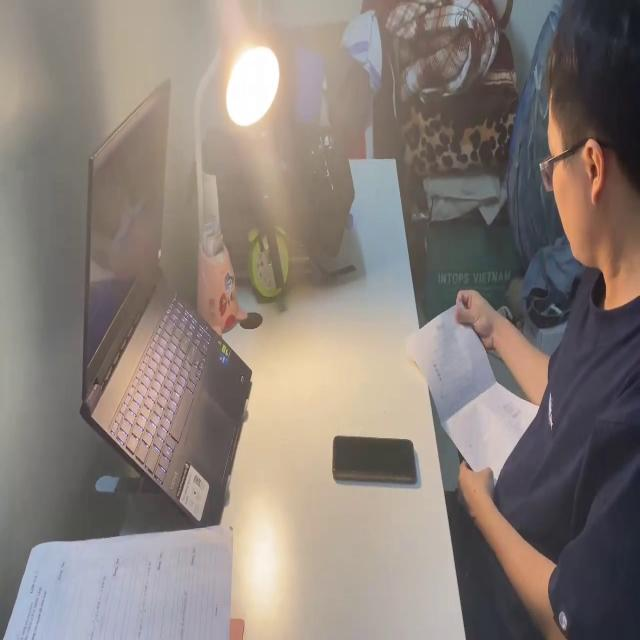book: (3, 523, 235, 640), (406, 288, 542, 485)
laptop: (82, 74, 254, 522)
phone: (332, 436, 420, 489)
student: (444, 0, 640, 640)
